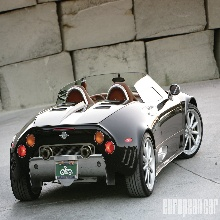no damage: (10, 72, 202, 199)
